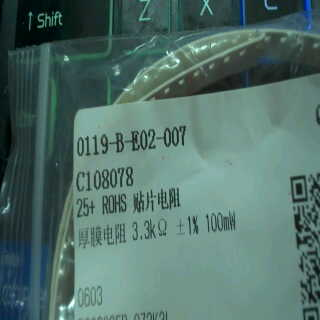3.3kO: (127, 217, 171, 243)
